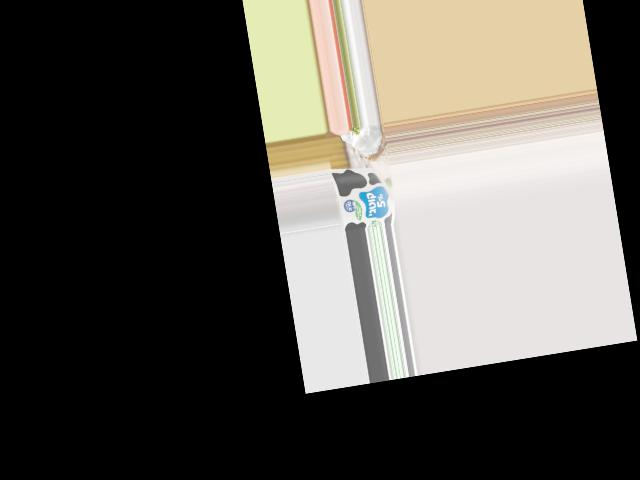cotage: (331, 163, 396, 232)
